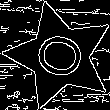O_E: (27, 27, 92, 85)
